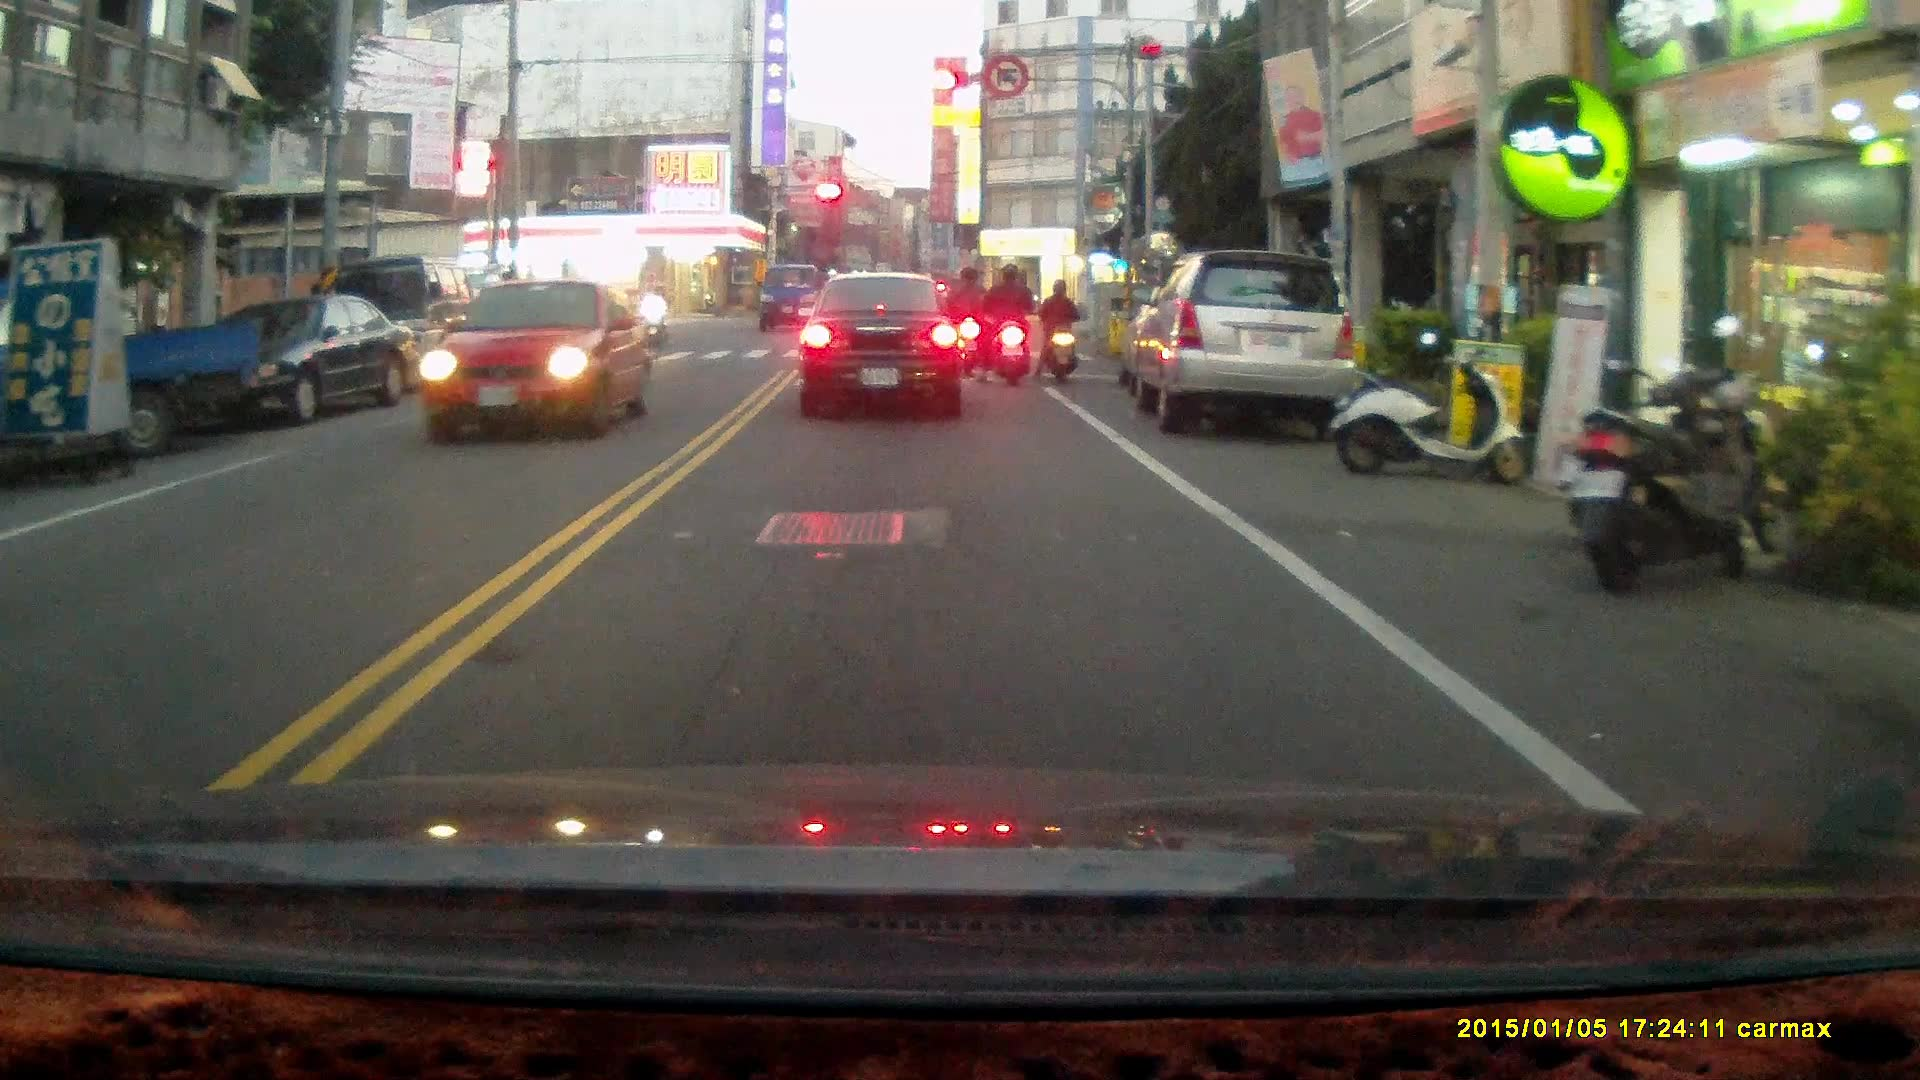rider: (977, 262, 1035, 389), (1032, 276, 1080, 386), (940, 265, 983, 377), (640, 280, 672, 346)
vehicle: (1126, 248, 1367, 440), (407, 276, 654, 441), (161, 293, 412, 424), (798, 269, 963, 421), (312, 252, 475, 396)
